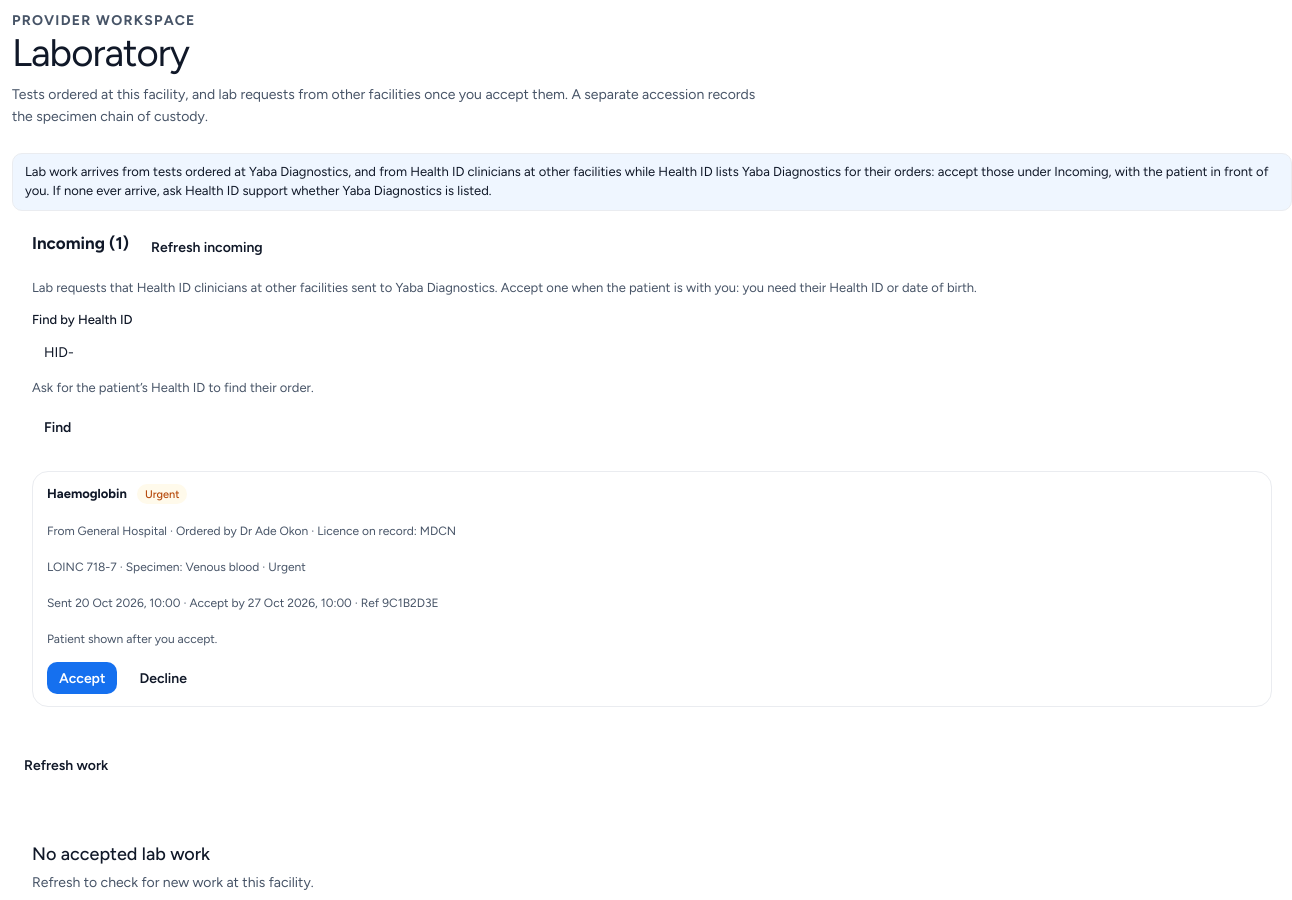
Test: Incoming at a laboratory › finds a patient’s orders by their Health ID, and refuses one that is not a Health ID
The image size is (1292, 900).
Replace the text in the field labelled "Find by Health ID" with "hid-7kq2m9" at (242, 353), box [32,334,452,372]
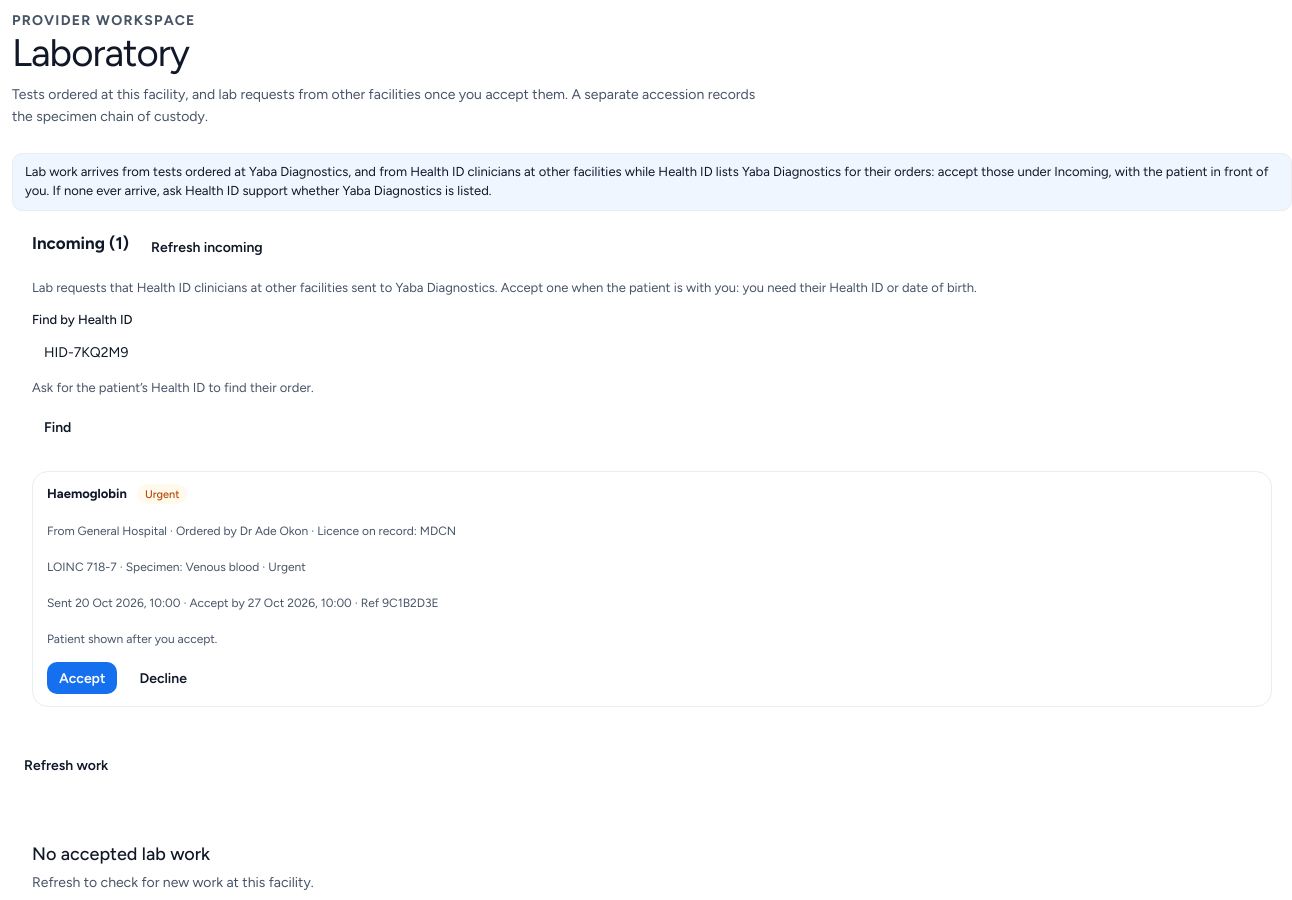
Click the button "Find".
click(58, 427)  # box [32,411,83,443]
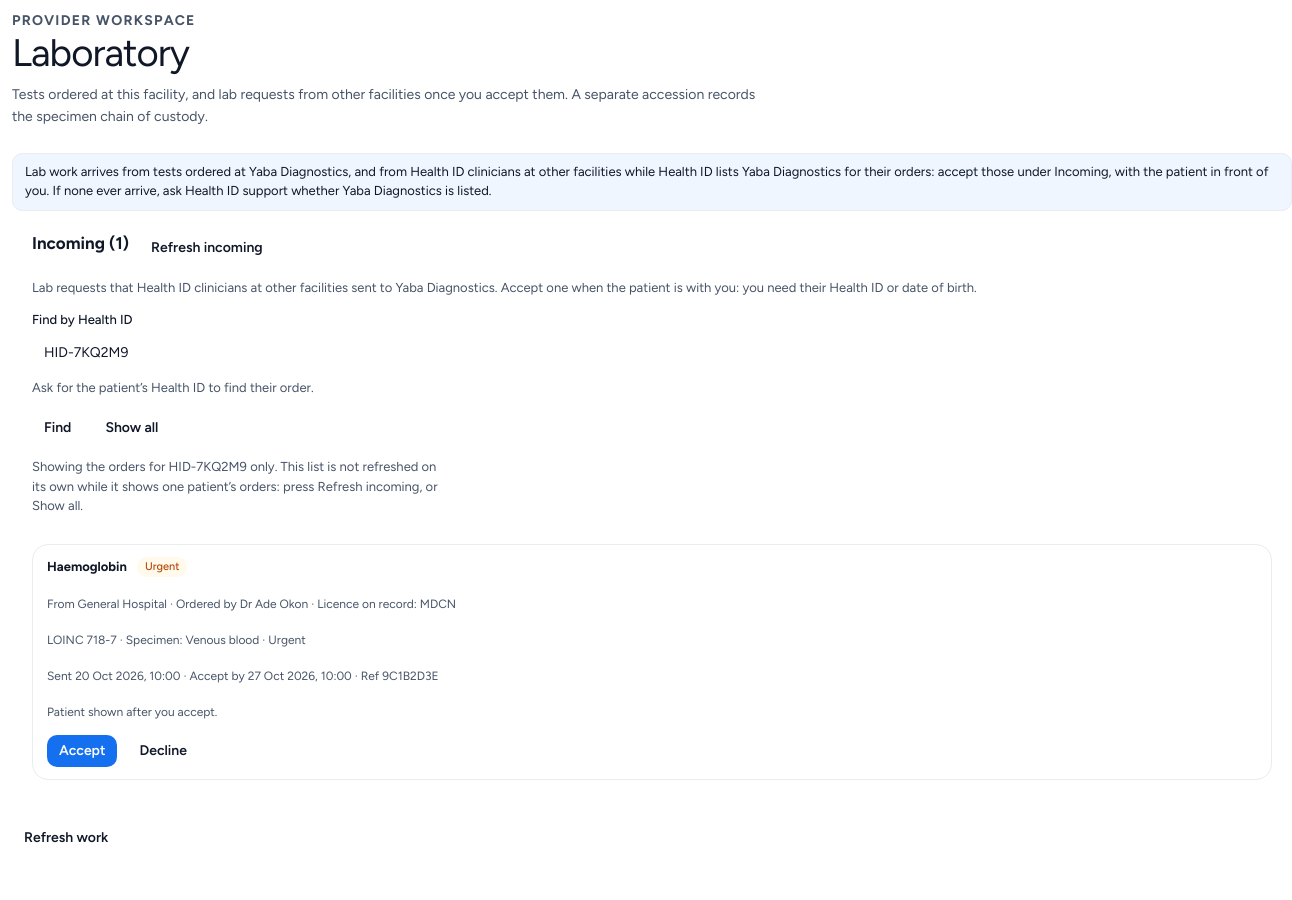
Replace the text in the field labelled "Find by Health ID" with "1985-03-12" at (242, 353), box [32,334,452,372]
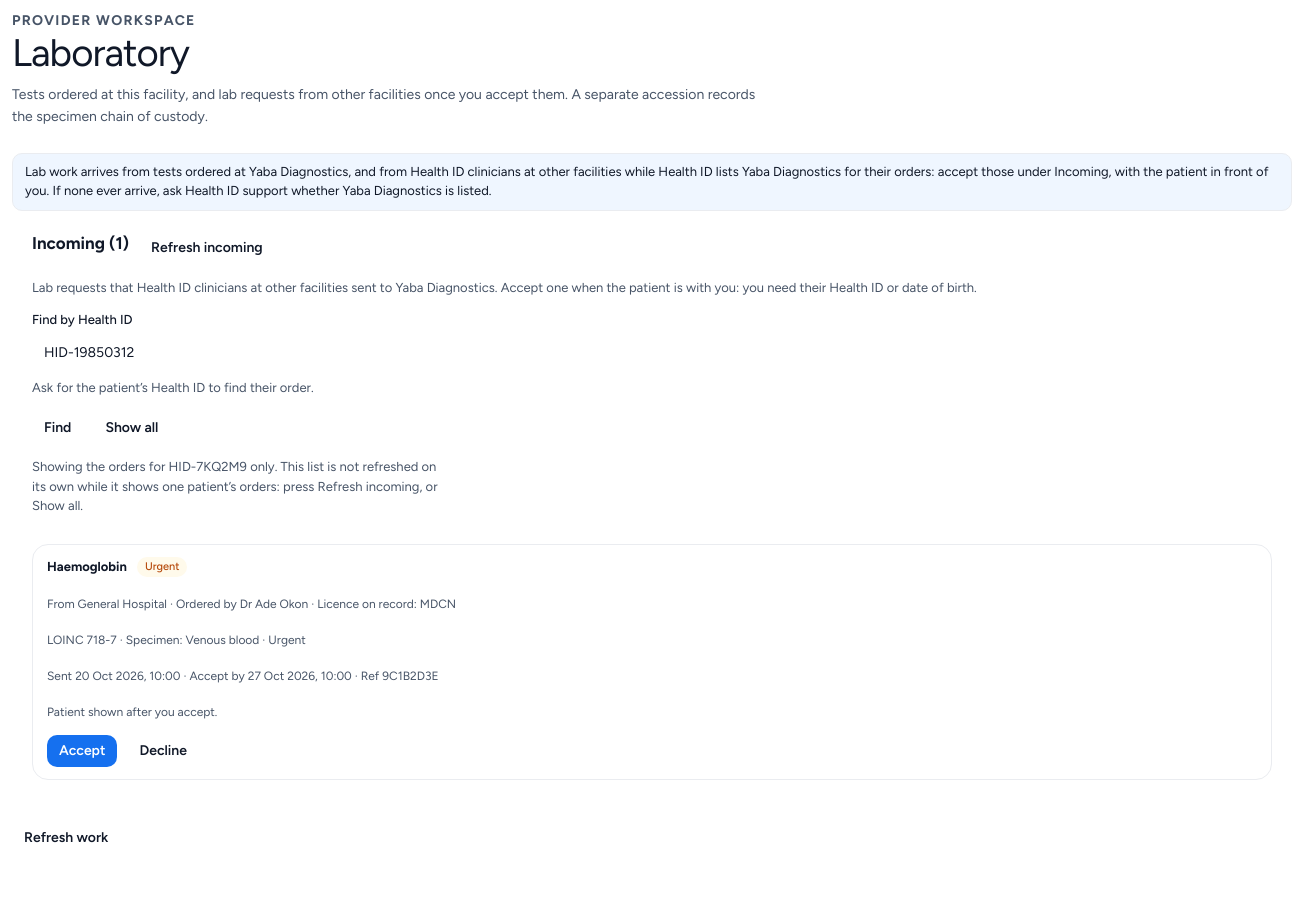
Click the button "Find".
click(58, 427)  # box [32,411,83,443]
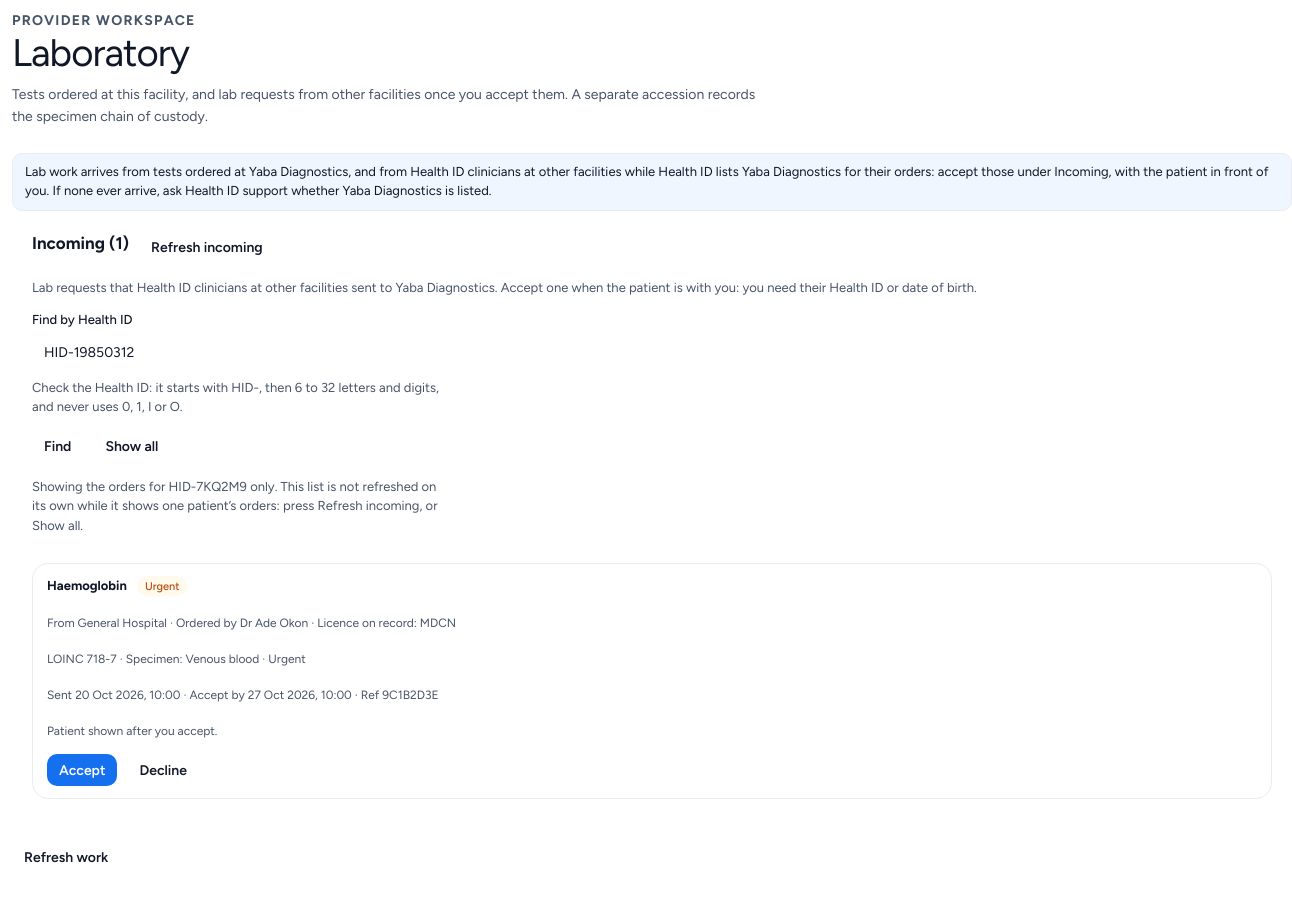
Check: the text "Check the Health ID: it starts with HID-" is shown, box [32,380,439,414]
